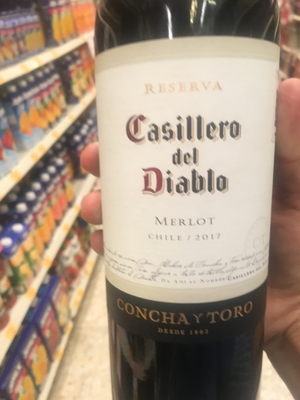casillero del diablo merlot: (91, 5, 282, 400)
